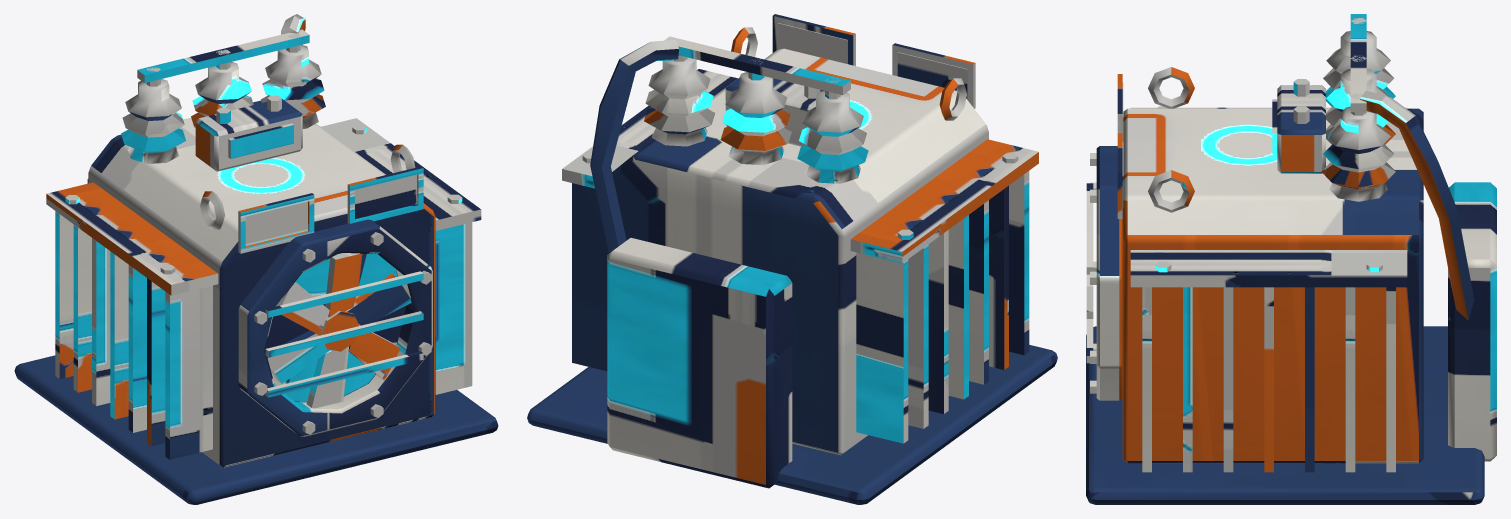
The model's file is R4X_Battery_LOD1.fbx.
The picture shows the model from 3 angles, left to right: view 1: azimuth 30°, elevation 25°; view 2: azimuth 150°, elevation 25°; view 3: azimuth 270°, elevation 25°; orthographic projection. The views are drawn at different scales.
Parts seen in each view (by area): view 1: R4X_Battery_LOD1; view 2: R4X_Battery_LOD1; view 3: R4X_Battery_LOD1.
Boxes of the visible parts, x1,y1,x2,y2 form: R4X_Battery_LOD1: [14, 14, 498, 504]; R4X_Battery_LOD1: [527, 14, 1057, 504]; R4X_Battery_LOD1: [1086, 14, 1496, 504].
Bounding box in the file's own units: 0.49 × 0.5063 × 0.505.
